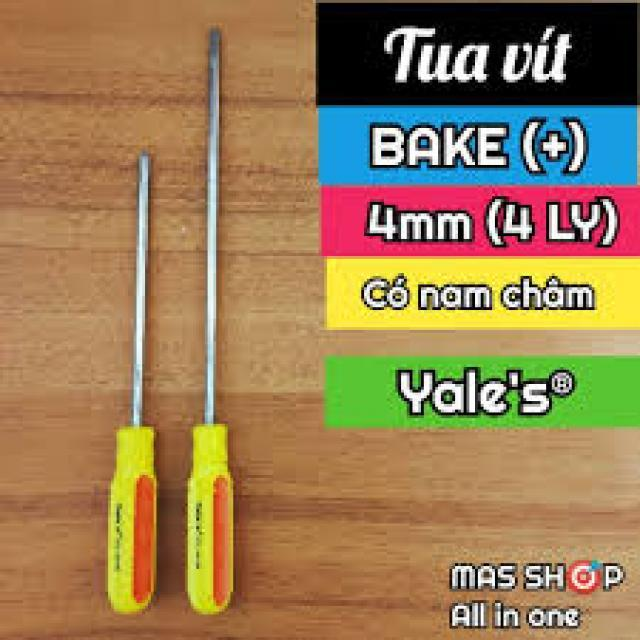screwdriver: (184, 21, 233, 613), (106, 152, 160, 616)
